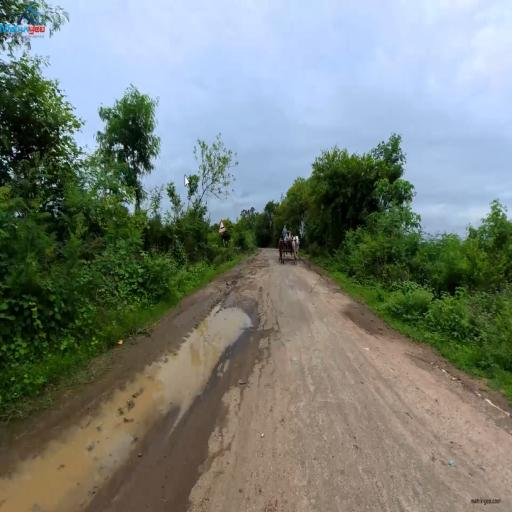ravelling: (264, 304, 295, 377)
